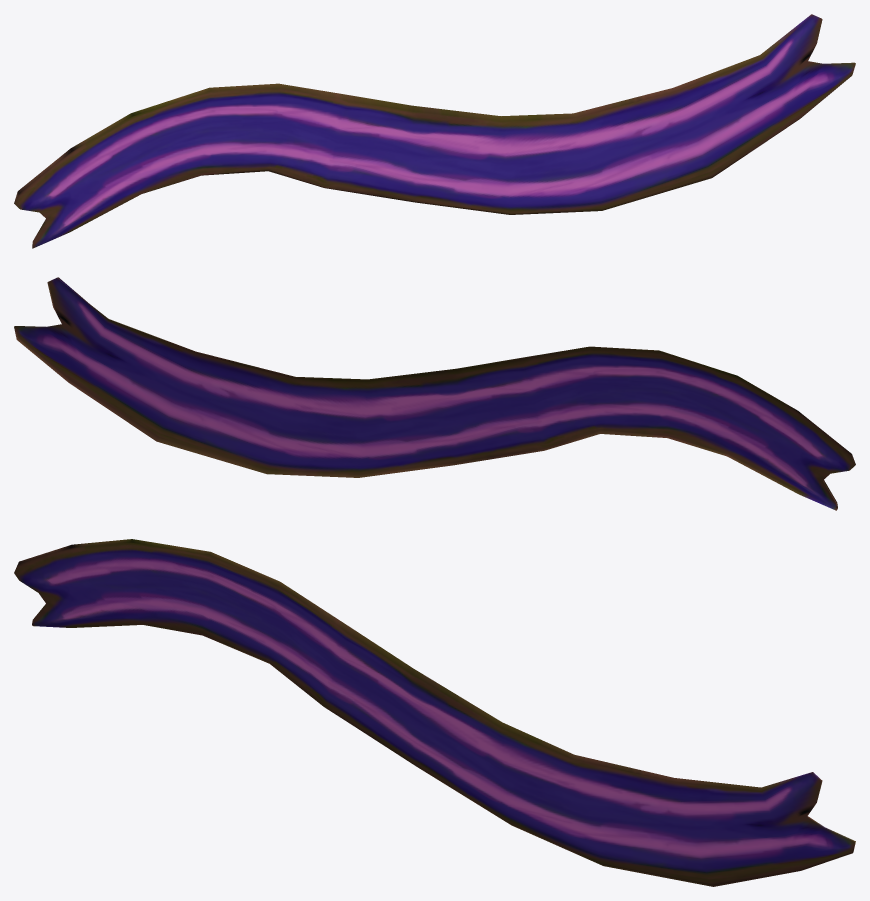
File: CardboardCutout_Banner_PurplePink_Scaled.fbx
3 renders of one model, top to bottom at view 1: azimuth 30°, elevation 25°; view 2: azimuth 150°, elevation 25°; view 3: azimuth 330°, elevation 25°, orthographic.
Parts seen in each view (by area): view 1: Ribbon2; view 2: Ribbon2; view 3: Ribbon2.
Part boxes in pixels (x1=…): Ribbon2: x1=14, y1=14, x2=855, y2=248; Ribbon2: x1=14, y1=277, x2=855, y2=510; Ribbon2: x1=14, y1=539, x2=855, y2=886.
Size of the model in its own units: 409 by 102 by 1.96.
